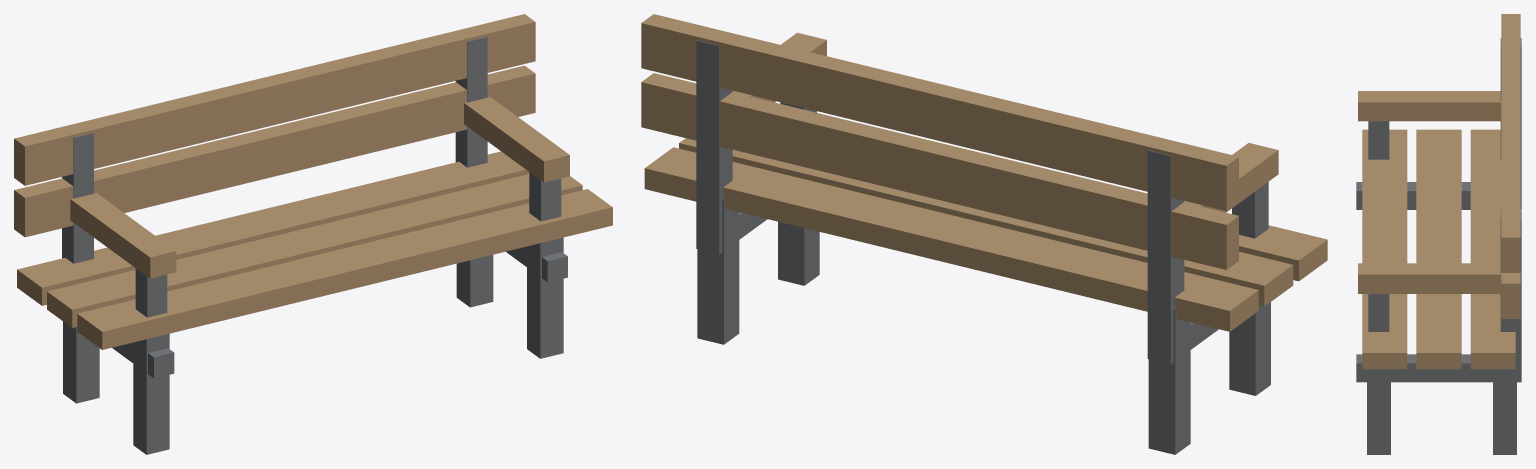
The model's file is bench_01.glb.
3 renders of one model, left to right at view 1: azimuth 30°, elevation 25°; view 2: azimuth 150°, elevation 25°; view 3: azimuth 270°, elevation 25°, orthographic. The views are drawn at different scales.
Visible parts, largest first — view 1: Bench_01; view 2: Bench_01; view 3: Bench_01.
Part boxes in pixels (x1,y1,x2,y2): Bench_01: [14, 14, 612, 454]; Bench_01: [641, 14, 1327, 454]; Bench_01: [1356, 14, 1521, 454].
Size of the model in its own units: 1.76 by 0.875 by 0.55.
